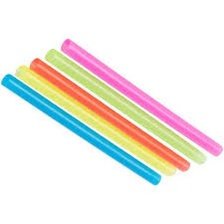drinking_straw: (56, 35, 224, 160)
